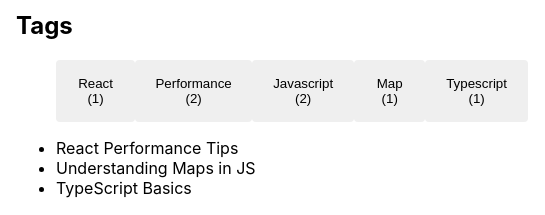
TagFrequency Component › filters posts when a tag is clicked
The width and height of the screenshot is (545, 215).
Click the button "javascript (2)": (303, 91) [252,60,354,122]
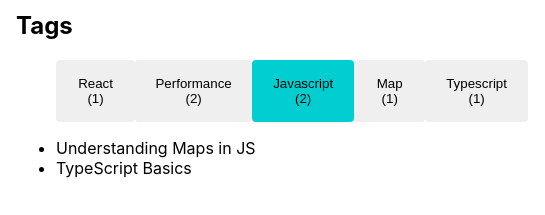
Check: the list item "TypeScript Basics" is shown, box [56,158,192,178]
Check: the list item "React Performance Tips" is gone
